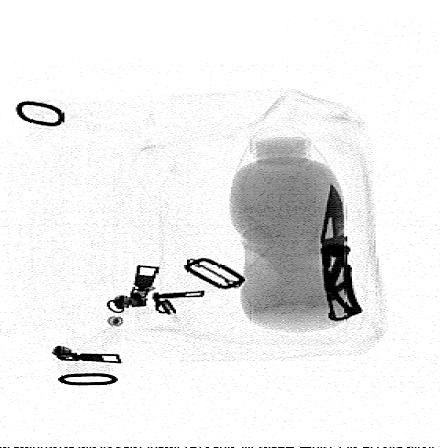Knife: (319, 182, 363, 322)
